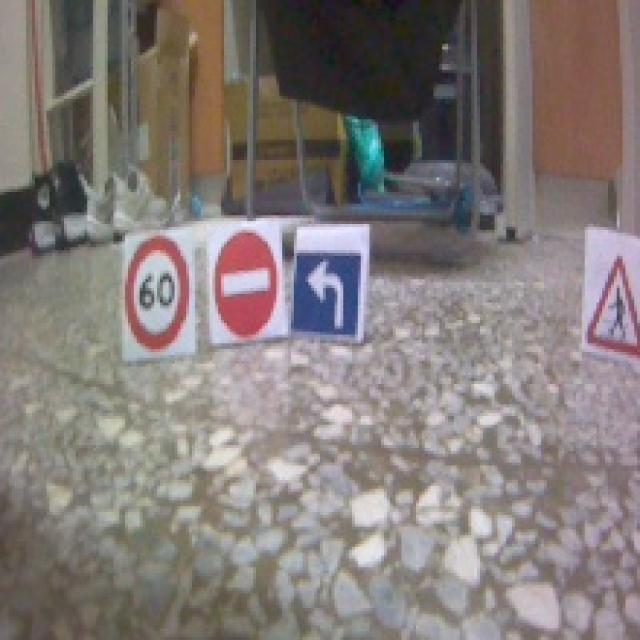DoNotEnterSign: (210, 230, 282, 339)
